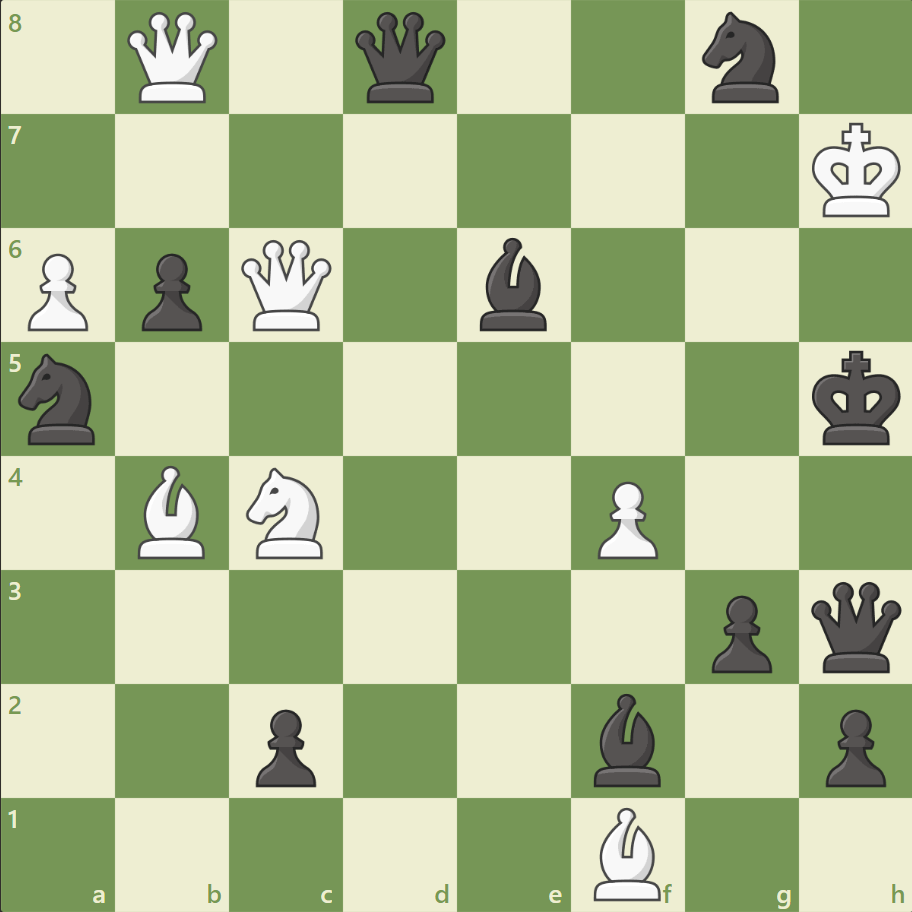B: (131, 460, 215, 563), (585, 801, 669, 904)
K: (806, 117, 906, 225)
N: (238, 461, 335, 564)
P: (20, 246, 95, 337), (588, 473, 662, 564)
Q: (124, 9, 223, 108), (237, 236, 336, 335)
b: (471, 233, 555, 336), (585, 687, 669, 790)
k: (806, 344, 906, 452)
n: (692, 7, 789, 110), (11, 348, 108, 450)
p: (133, 246, 208, 337), (701, 586, 776, 677), (247, 700, 322, 791), (815, 700, 889, 791)
q: (805, 576, 904, 676), (351, 9, 450, 108)
